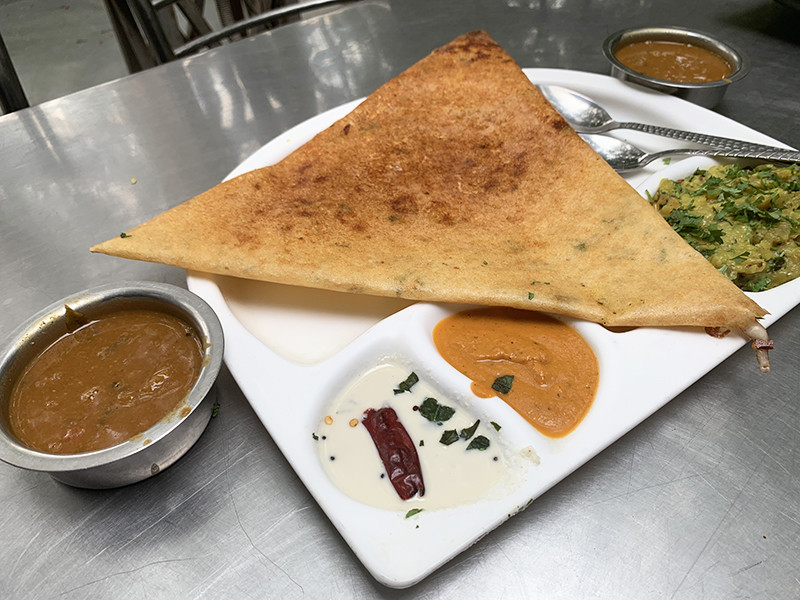dosa: (86, 23, 791, 368)
